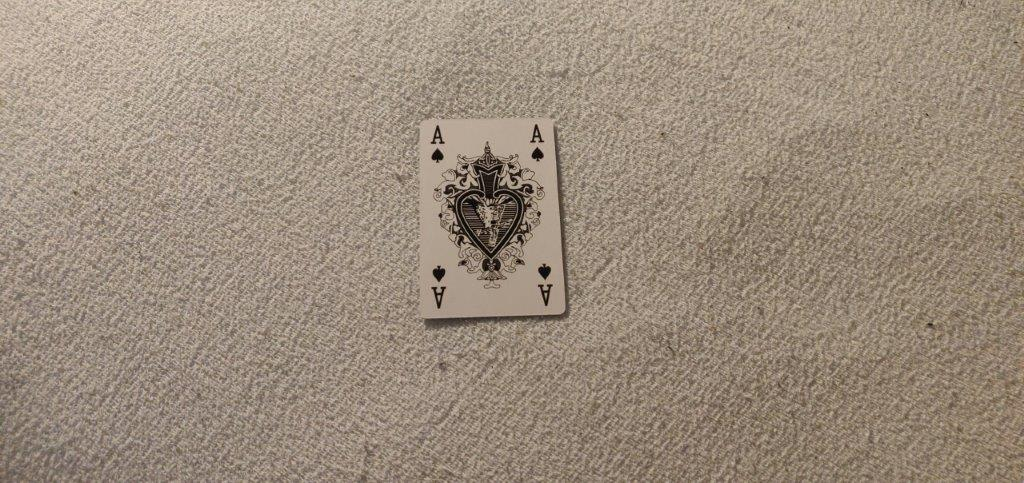AS: (425, 123, 449, 166), (528, 121, 547, 166)
